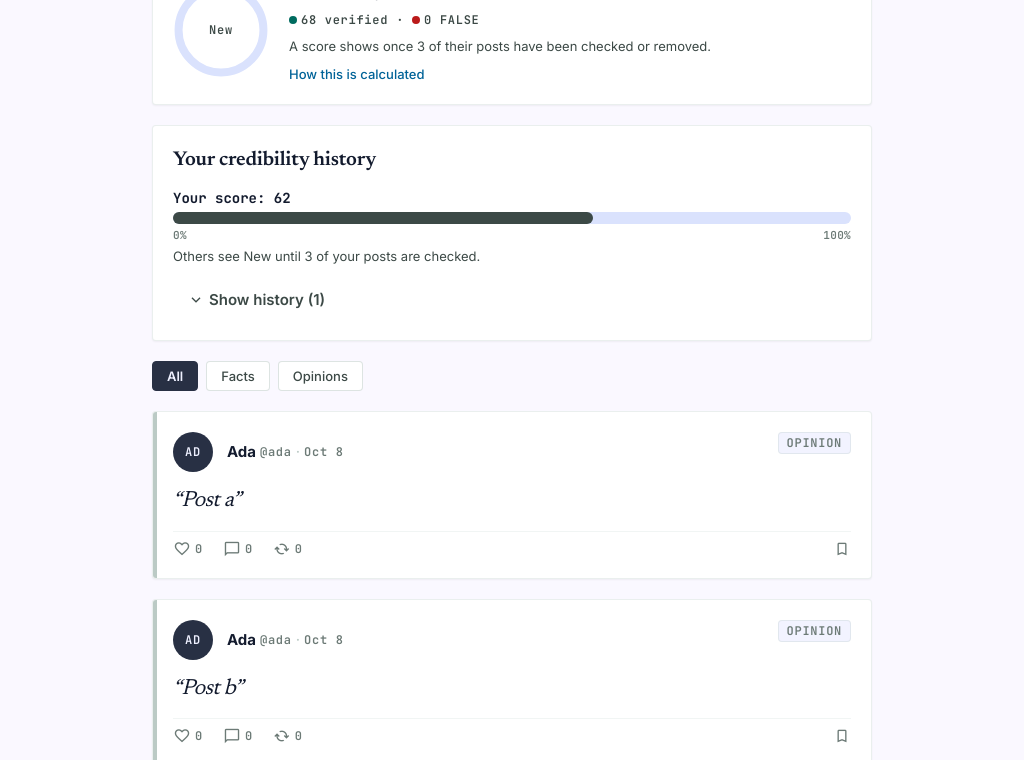
Test: ProfilePage: your own new post › is added only when it matches the filter in use
The width and height of the screenshot is (1024, 760).
(page scrolled)
Click the button "Facts": click(238, 376) [206, 361, 270, 391]
(page scrolled)
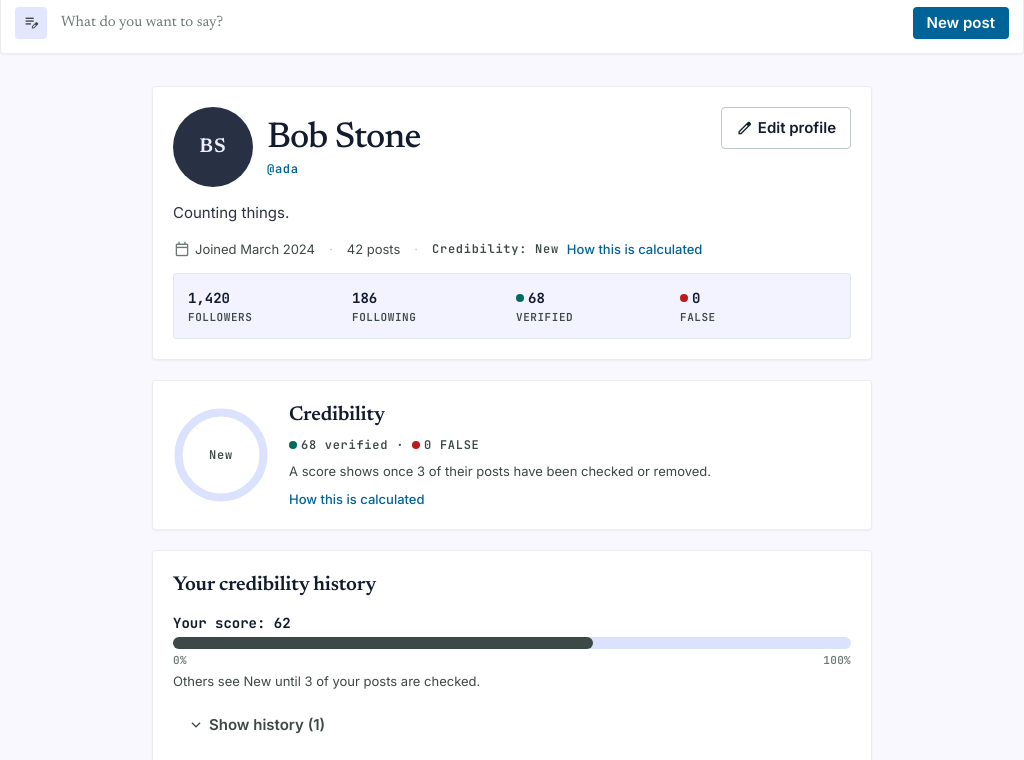
Click the button "What do you want to say? New post": click(31, 23) [15, 7, 1009, 39]
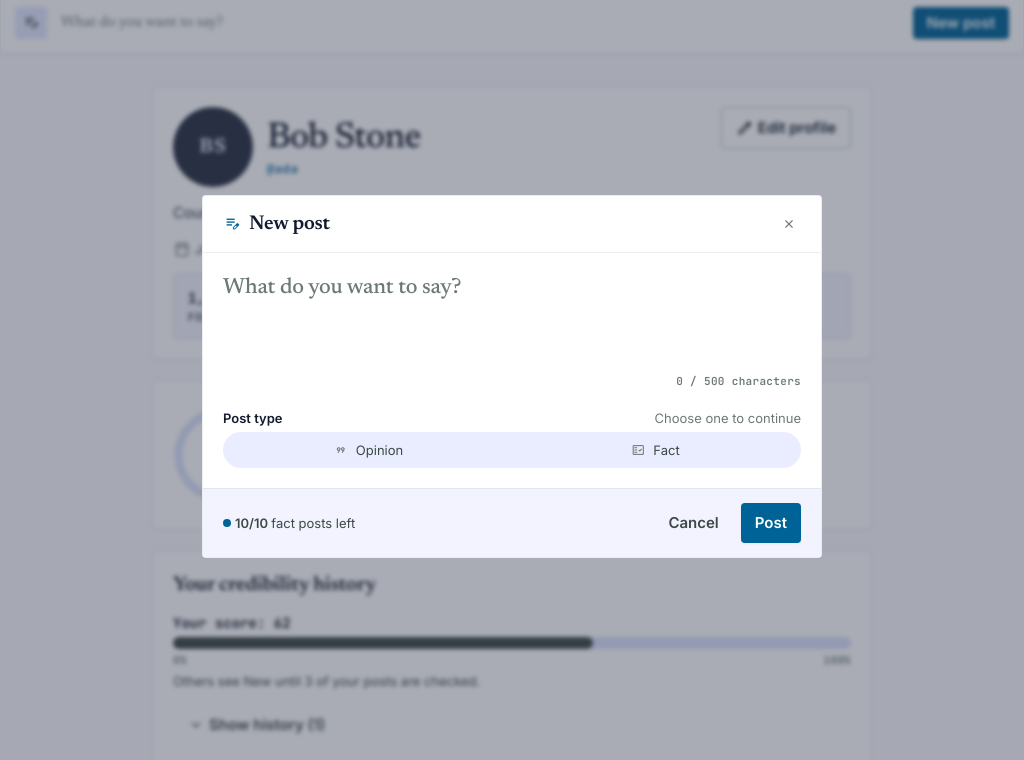
Click the radio button labelled "Opinion": click(368, 450) [227, 436, 510, 464]
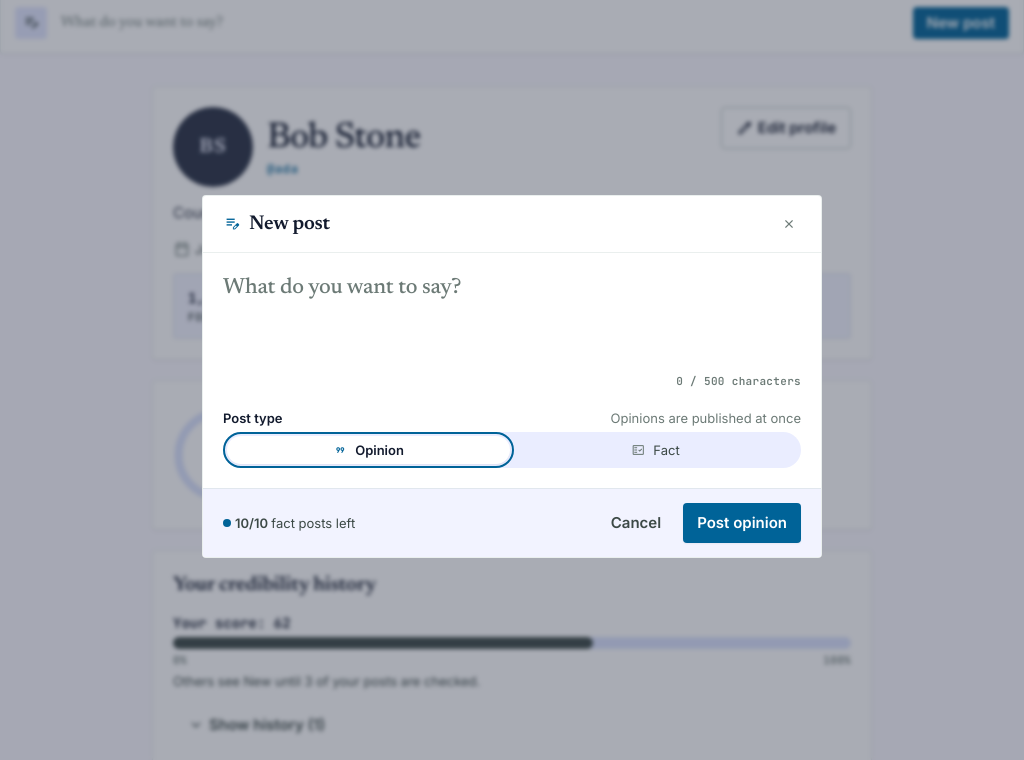
In the text box named "Post text": (512, 318) [223, 272, 801, 362], type "Brand new"
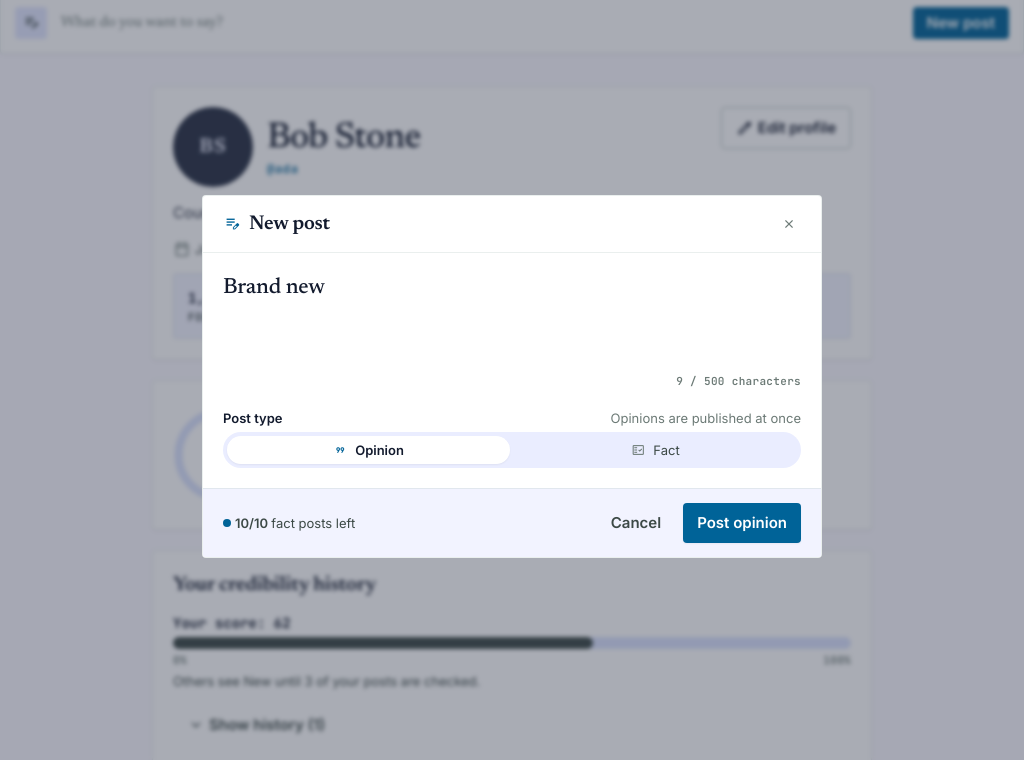
Click the button "Post opinion": click(742, 522) [683, 502, 801, 542]
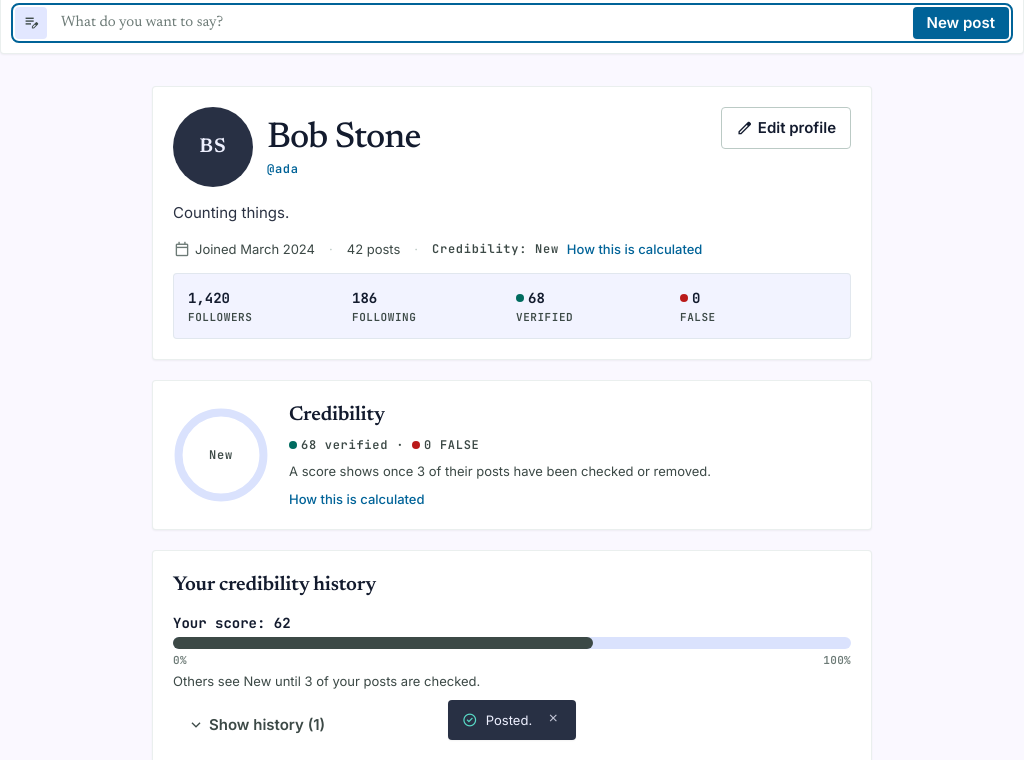
Check: the text "Brand new" is not shown
Check: the text "Posted." is shown, box [486, 710, 532, 730]
